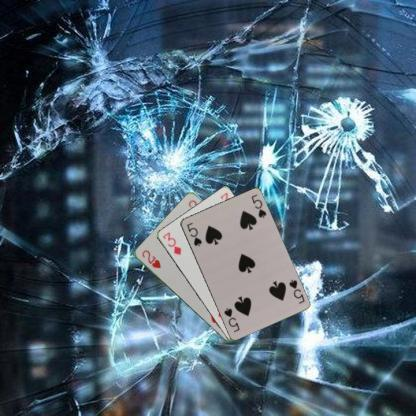2h: (139, 247, 162, 270)
3d: (160, 230, 182, 257)
5s: (286, 277, 306, 305), (184, 220, 203, 247)
